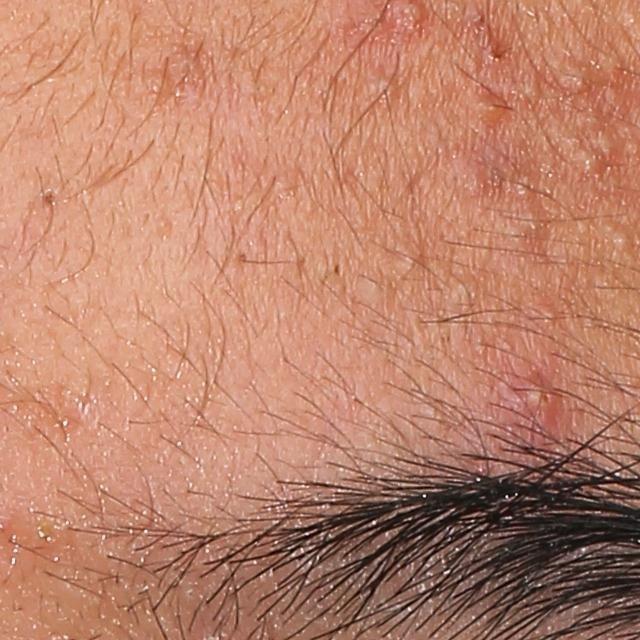comedo: (601, 220, 640, 256), (560, 63, 597, 100), (567, 147, 603, 181), (33, 183, 63, 216), (372, 73, 405, 99), (398, 251, 428, 276)
